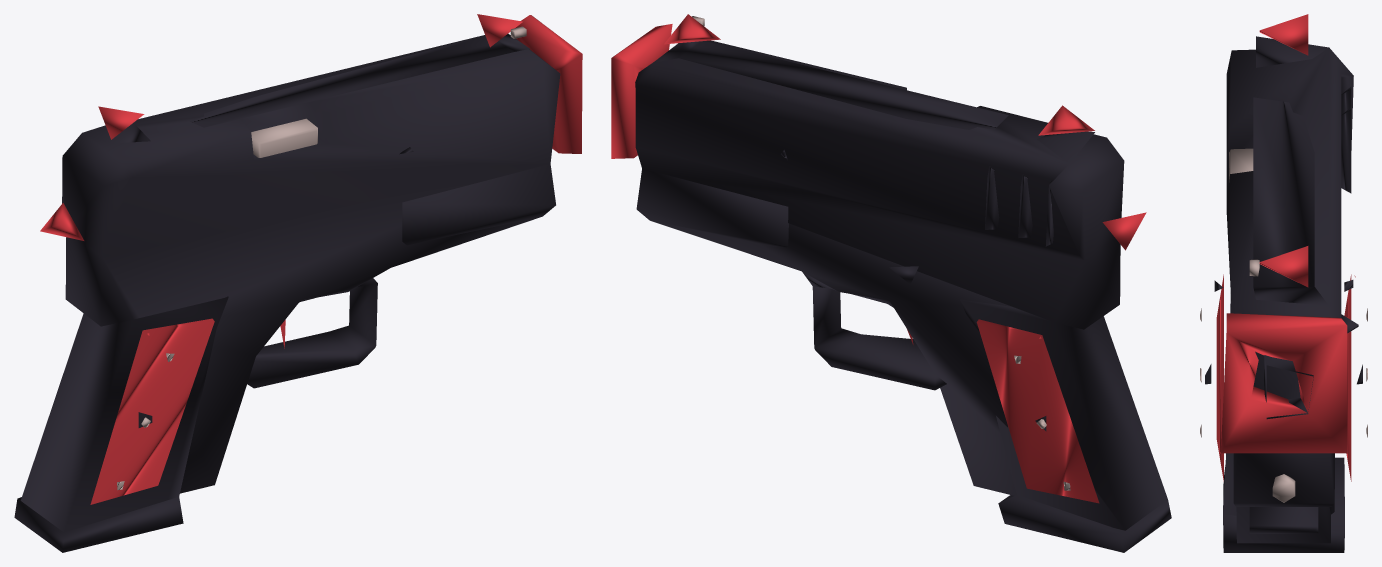
The model's file is wpn.pistol.lod1.glb.
3 views of the same model, side by side, from view 1: azimuth 30°, elevation 25°; view 2: azimuth 150°, elevation 25°; view 3: azimuth 270°, elevation 25° (orthographic). The views are drawn at different scales.
Size of the model in its own units: 0.309 by 0.2287 by 0.0685.
